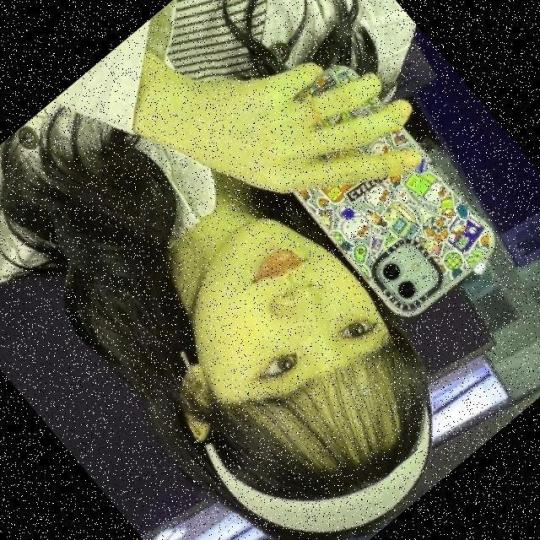phone: (262, 64, 503, 316)
